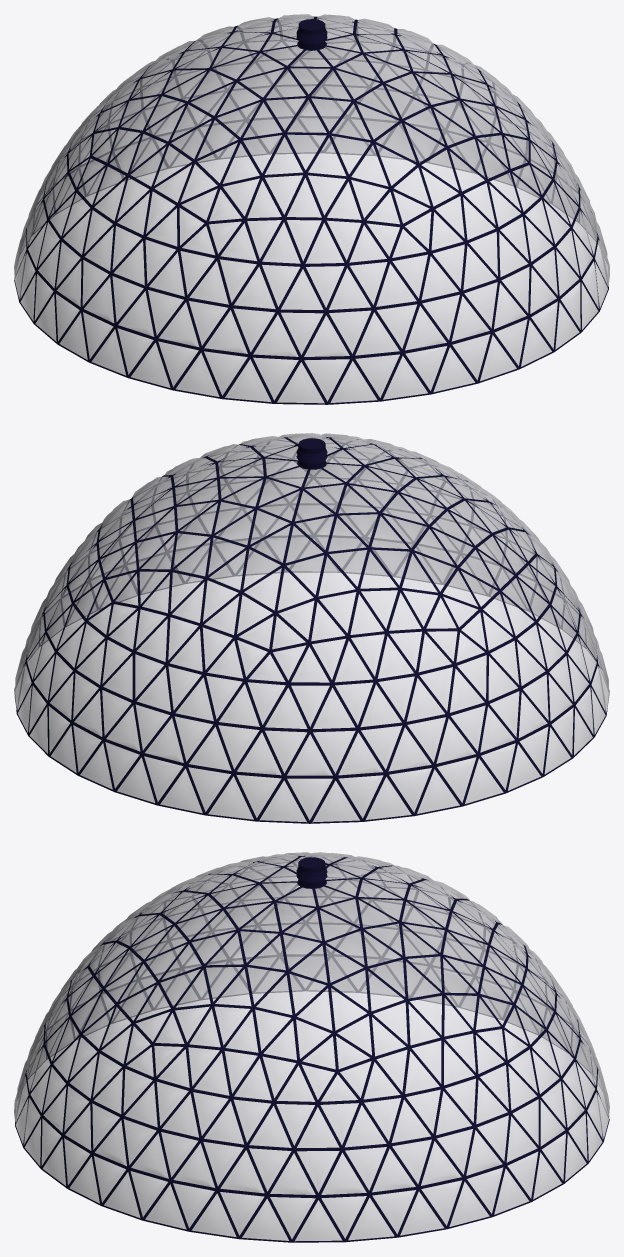
File: graham_bio_dome_1.glb
3 views of the same model, one above another, from view 1: azimuth 30°, elevation 25°; view 2: azimuth 150°, elevation 25°; view 3: azimuth 270°, elevation 25° (orthographic).
Visible parts, largest first — view 1: Material2 (×156); view 2: Material2 (×153); view 3: Material2 (×155).
Part boxes in pixels (box(x1,y1,x2,y2)): Material2 (×156): box(14, 16, 608, 404); Material2 (×153): box(16, 437, 607, 823); Material2 (×155): box(15, 855, 609, 1242).
Size of the model in its own units: 3456 by 1627 by 3456.
